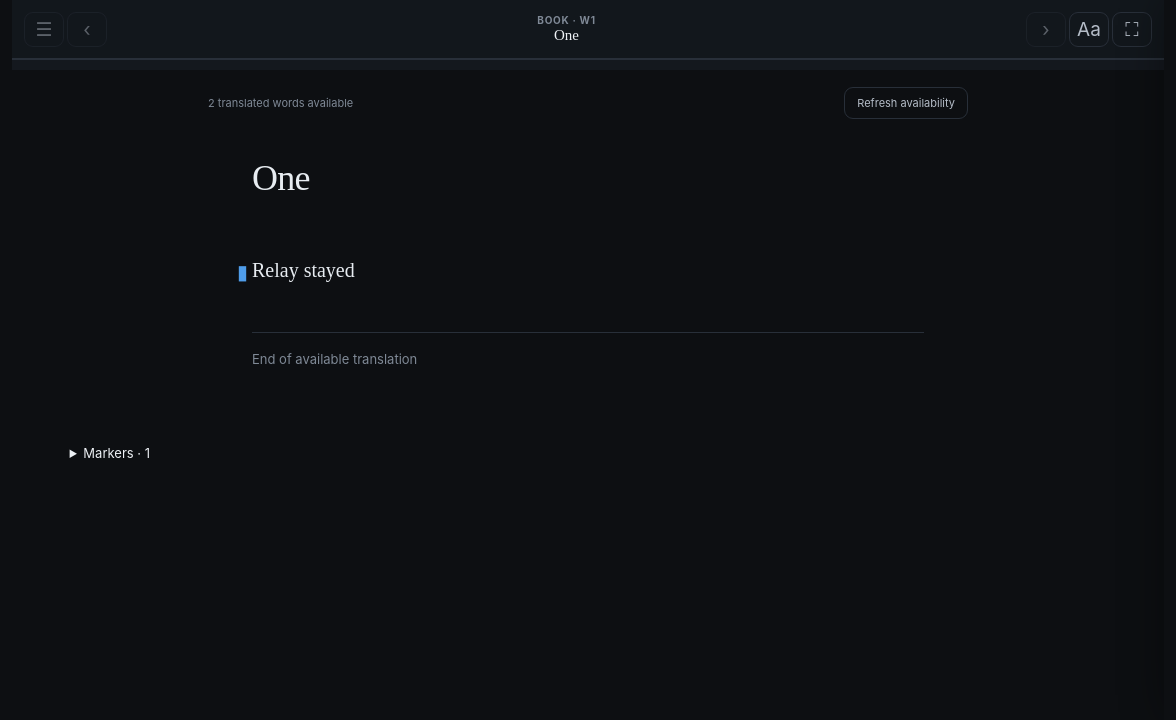
restores the marker indicator after a revision conflict without highlighting book text
expect the button with class "reader-gutter-marker" is shown: met, box [235, 253, 250, 291]
Click the heading "Markers · 1" at (117, 453), box [83, 445, 150, 461]
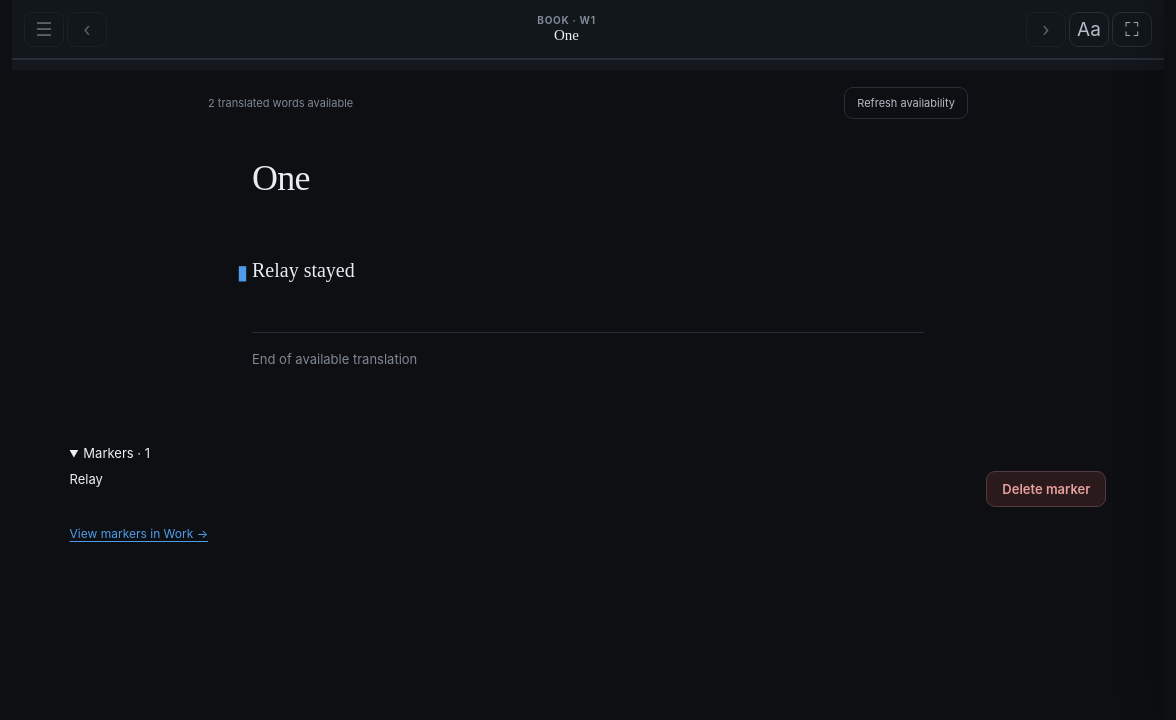
Click the button "Delete marker" at (1046, 489), box [986, 471, 1106, 507]
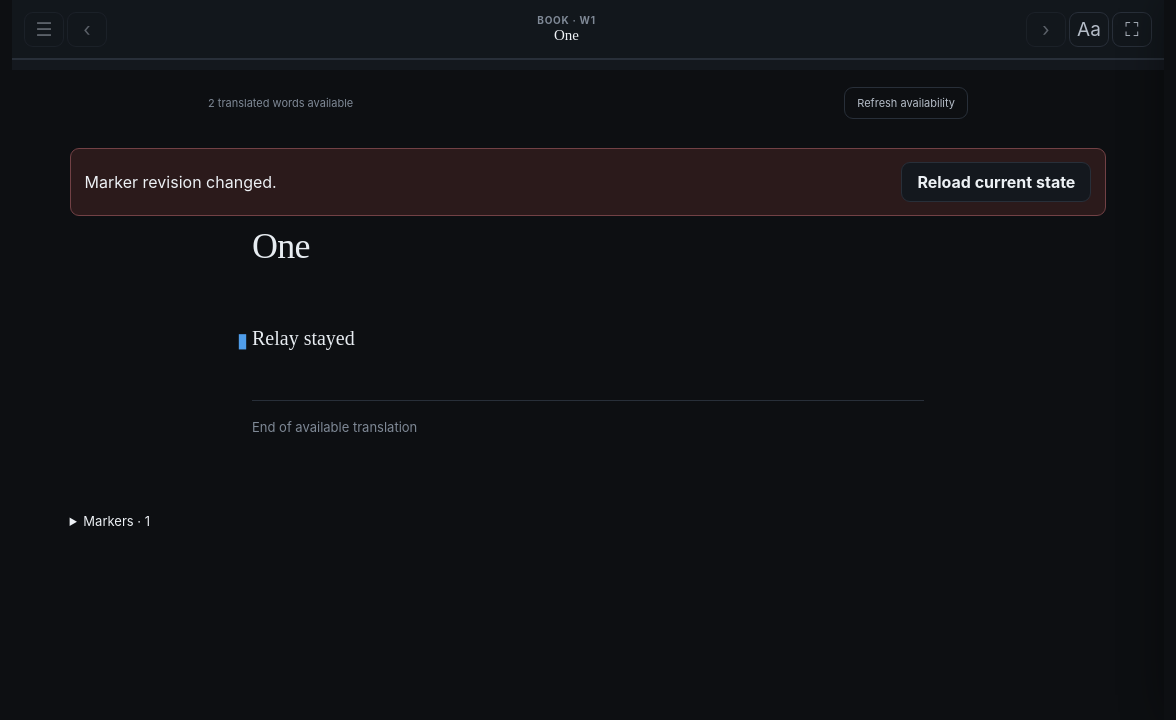
expect the button with class "reader-gutter-marker" is shown: met, box [235, 321, 250, 359]
expect the text "Marker revision changed." is shown: met, box [85, 172, 277, 192]
